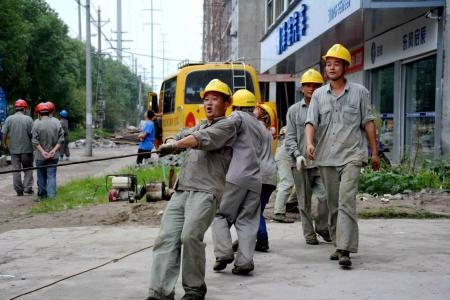blue: (59, 109, 68, 119)
none: (143, 108, 153, 121)
red: (13, 98, 28, 115), (34, 102, 49, 119)
yellow: (321, 41, 353, 83), (199, 79, 230, 117), (298, 66, 324, 100), (230, 88, 257, 116), (254, 101, 275, 129)
